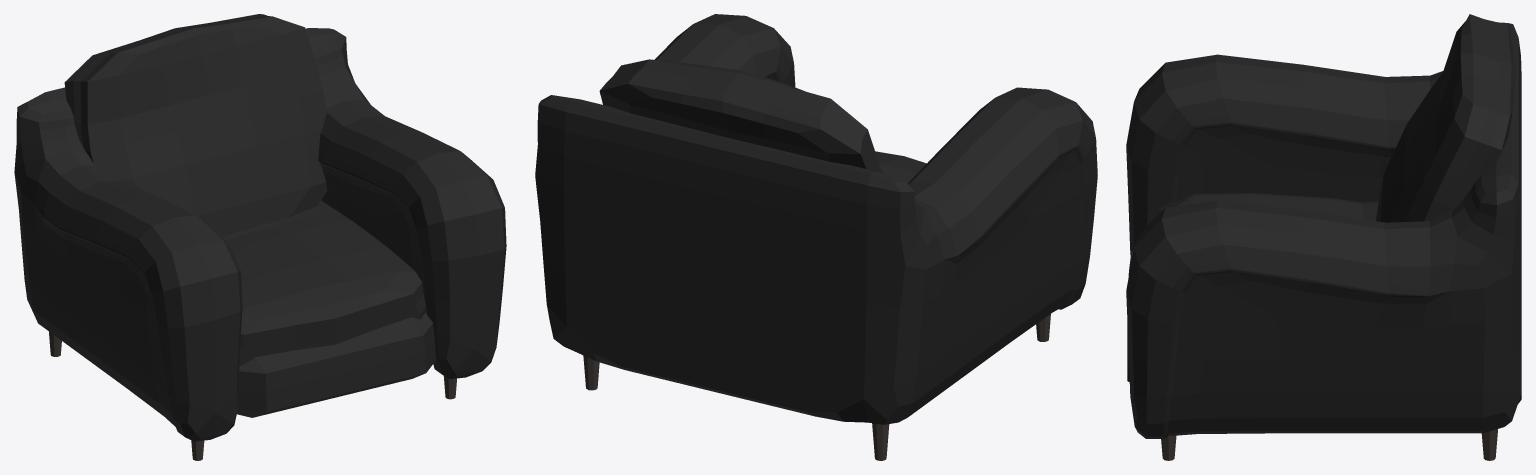
File: Sofa_individual.glb
3 renders of one model, left to right at view 1: azimuth 30°, elevation 25°; view 2: azimuth 150°, elevation 25°; view 3: azimuth 270°, elevation 25°, orthographic. The views are drawn at different scales.
Parts seen in each view (by area): view 1: Sofa_individual; view 2: Sofa_individual; view 3: Sofa_individual.
Part boxes in pixels (bbox=[...]): Sofa_individual: bbox=[14, 14, 506, 460]; Sofa_individual: bbox=[535, 14, 1097, 460]; Sofa_individual: bbox=[1126, 14, 1521, 460].
Bounding box in the file's own units: 1.09 × 0.9045 × 0.9565.
2 materials, 2 textured.
